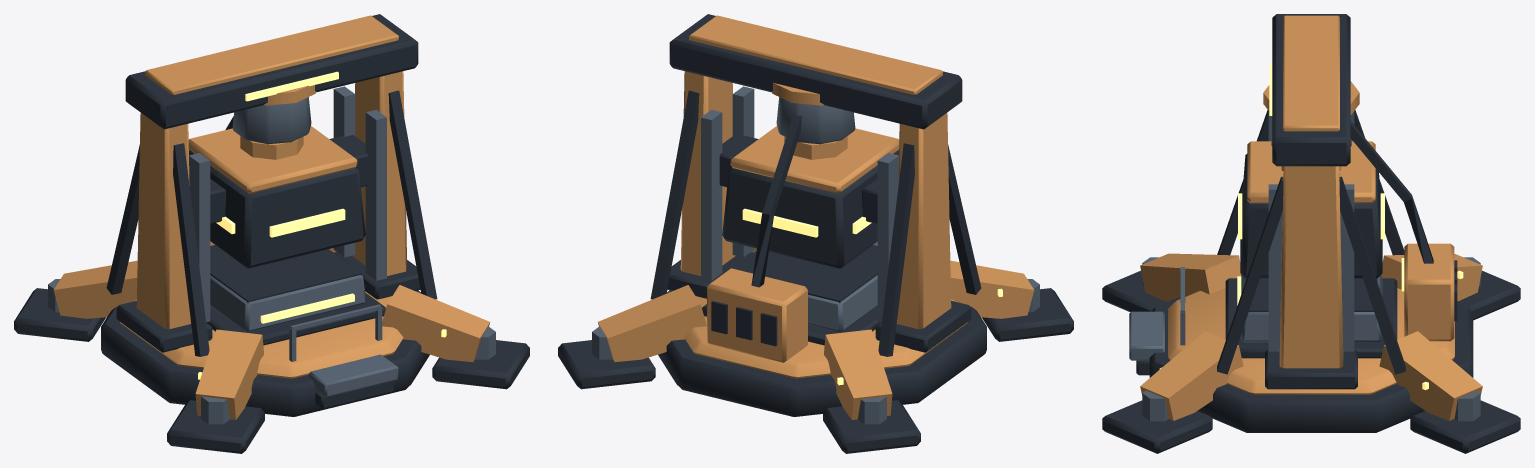
File: seismic.glb
3 renders of one model, left to right at view 1: azimuth 30°, elevation 25°; view 2: azimuth 150°, elevation 25°; view 3: azimuth 270°, elevation 25°, orthographic.
Visible parts, largest first — view 1: base, kick_hammer; view 2: base, kick_hammer; view 3: base, kick_hammer.
Boxes of the visible parts, <box> form: base: <box>14,14,529,453</box>; kick_hammer: <box>188,126,368,268</box>; base: <box>558,14,1073,453</box>; kick_hammer: <box>719,126,899,268</box>; base: <box>1102,14,1520,453</box>; kick_hammer: <box>1238,141,1384,278</box>.
Bounding box in the file's own units: 11.71 × 9.15 × 11.71.
